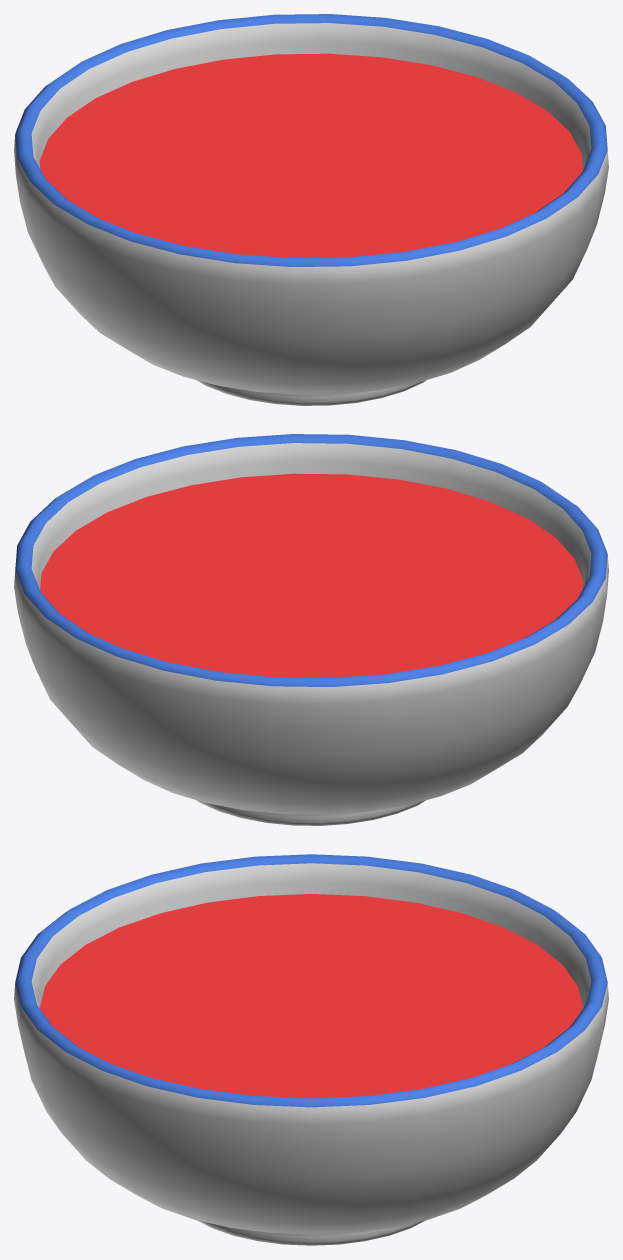
Rendered from TomatoSoup.glb.
3 views of the same model, one above another, from view 1: azimuth 30°, elevation 25°; view 2: azimuth 150°, elevation 25°; view 3: azimuth 270°, elevation 25° (orthographic).
Parts seen in each view (by area): view 1: Bowl.001; view 2: Bowl.001; view 3: Bowl.001.
Boxes of the visible parts, <box> form: Bowl.001: <box>14,14,608,405</box>; Bowl.001: <box>14,434,608,825</box>; Bowl.001: <box>14,854,608,1245</box>.
Size of the model in its own units: 0.2184 by 0.0868 by 0.2184.
